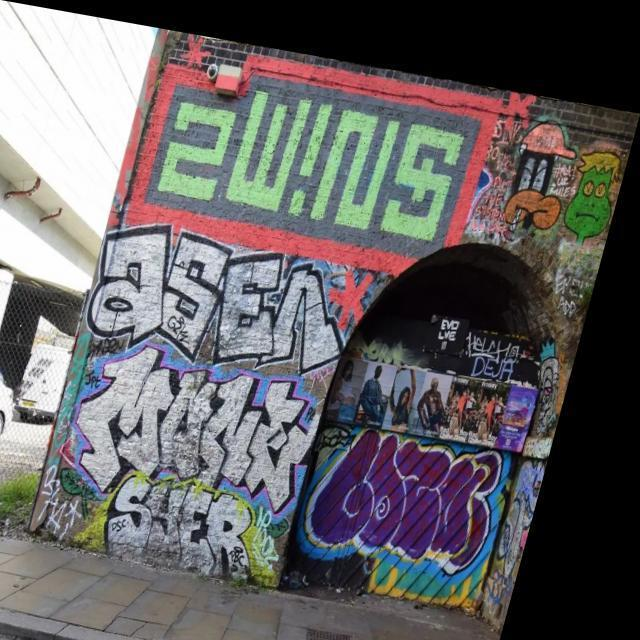-: (97, 207, 377, 376), (84, 334, 340, 499), (330, 411, 526, 550), (110, 455, 291, 586), (499, 90, 587, 228), (563, 114, 633, 230), (56, 458, 117, 534), (472, 308, 536, 362), (268, 492, 314, 562)
